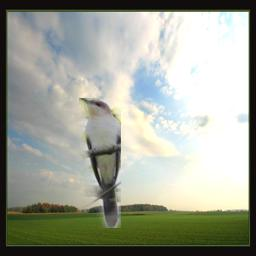Cuckoo: (79, 98, 121, 228)
